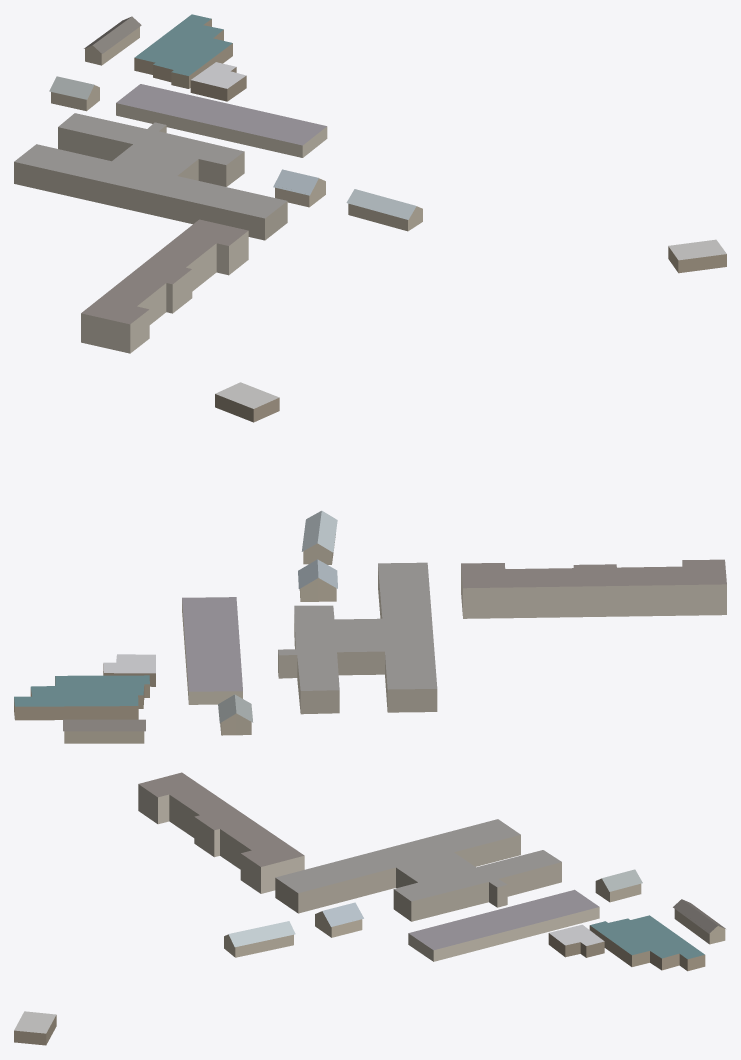
The picture shows the model from 3 angles, top to bottom: view 1: azimuth 30°, elevation 25°; view 2: azimuth 150°, elevation 25°; view 3: azimuth 270°, elevation 25°; orthographic projection. The views are drawn at different scales.
Visible parts, largest first — view 1: tuile; view 2: tuile; view 3: tuile.
Boxes of the visible parts, x1,y1,x2,y2 form: tuile: [14, 14, 726, 353]; tuile: [14, 382, 726, 743]; tuile: [14, 772, 725, 1045].
Bounding box in the file's own units: 156 × 8.55 × 186.
